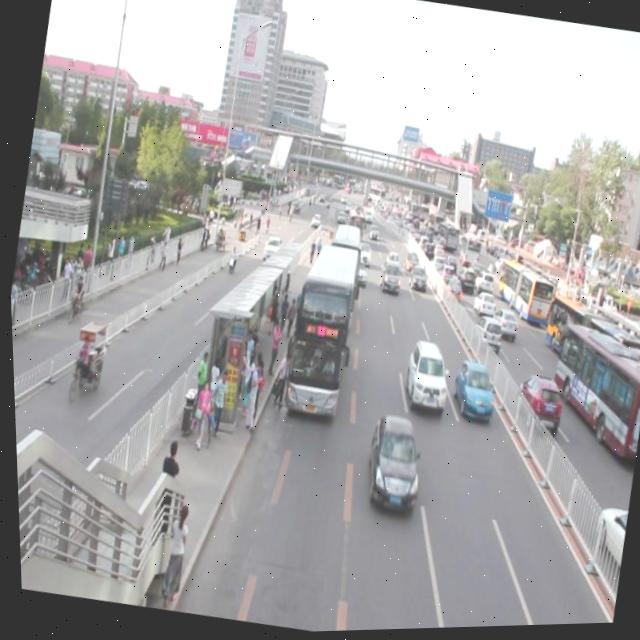car: (353, 412, 424, 520), (395, 338, 452, 420), (444, 360, 495, 426), (374, 259, 400, 297), (350, 241, 371, 271), (404, 266, 425, 295), (346, 262, 366, 290), (380, 250, 400, 275), (400, 252, 417, 274)
van: (275, 237, 361, 419), (312, 223, 364, 335)
